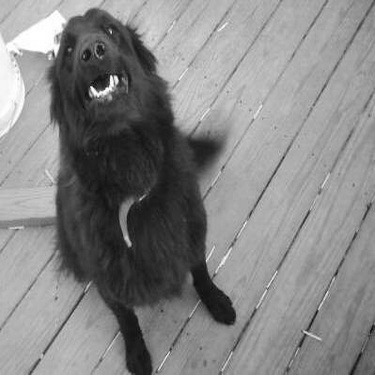dog: (34, 6, 241, 371)
